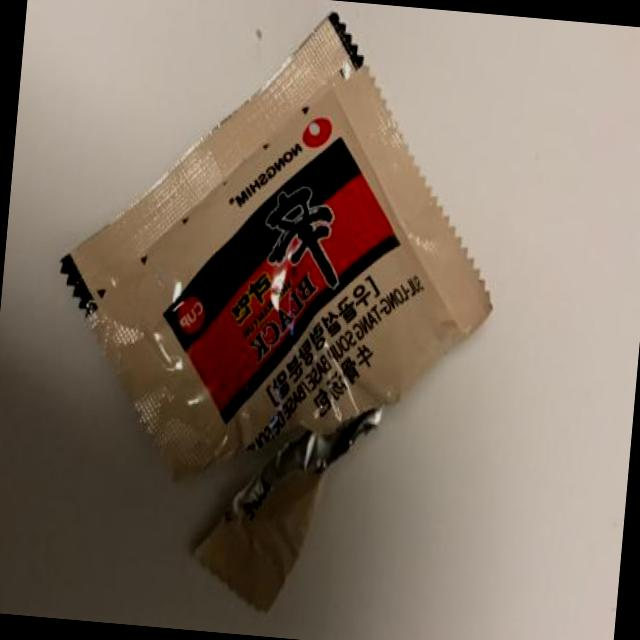giay_goi: (60, 12, 490, 610)
